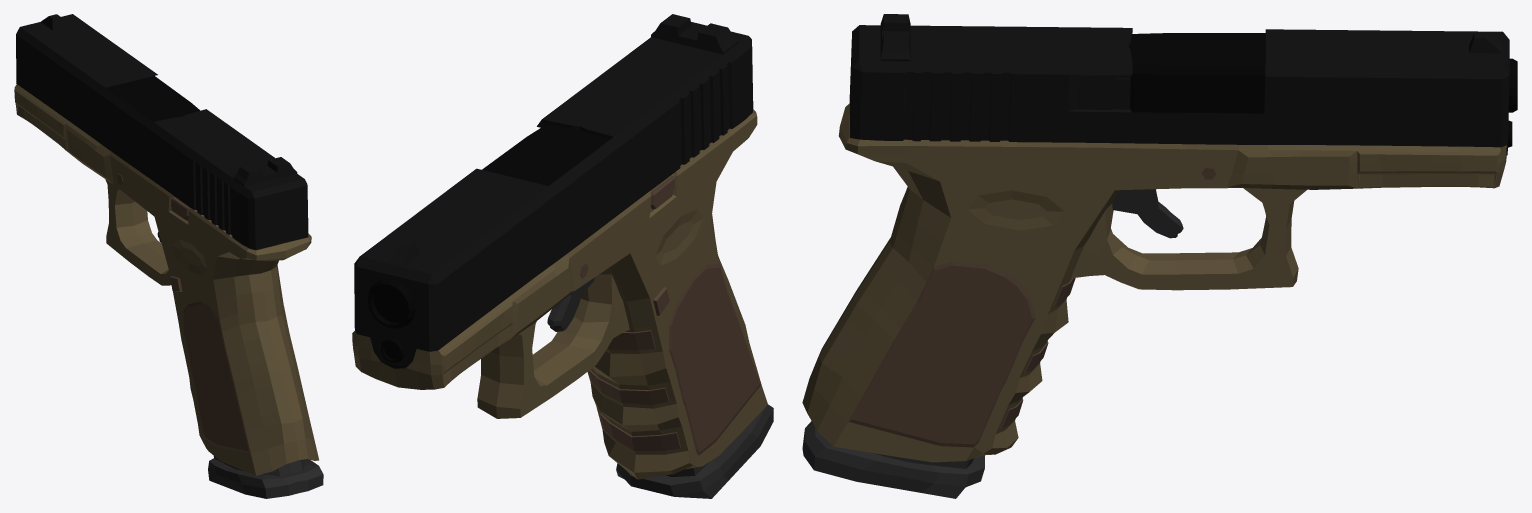
Rendered from glock19.glb.
The picture shows the model from 3 angles, left to right: view 1: azimuth 30°, elevation 25°; view 2: azimuth 150°, elevation 25°; view 3: azimuth 270°, elevation 25°; orthographic projection. The views are drawn at different scales.
Parts seen in each view (by area): view 1: glock19; view 2: glock19; view 3: glock19.
Boxes of the visible parts, bbox=[...] form: glock19: bbox=[14, 14, 323, 498]; glock19: bbox=[352, 14, 773, 498]; glock19: bbox=[802, 14, 1517, 498].
Bounding box in the file's own units: 0.0291 × 0.1283 × 0.185.
